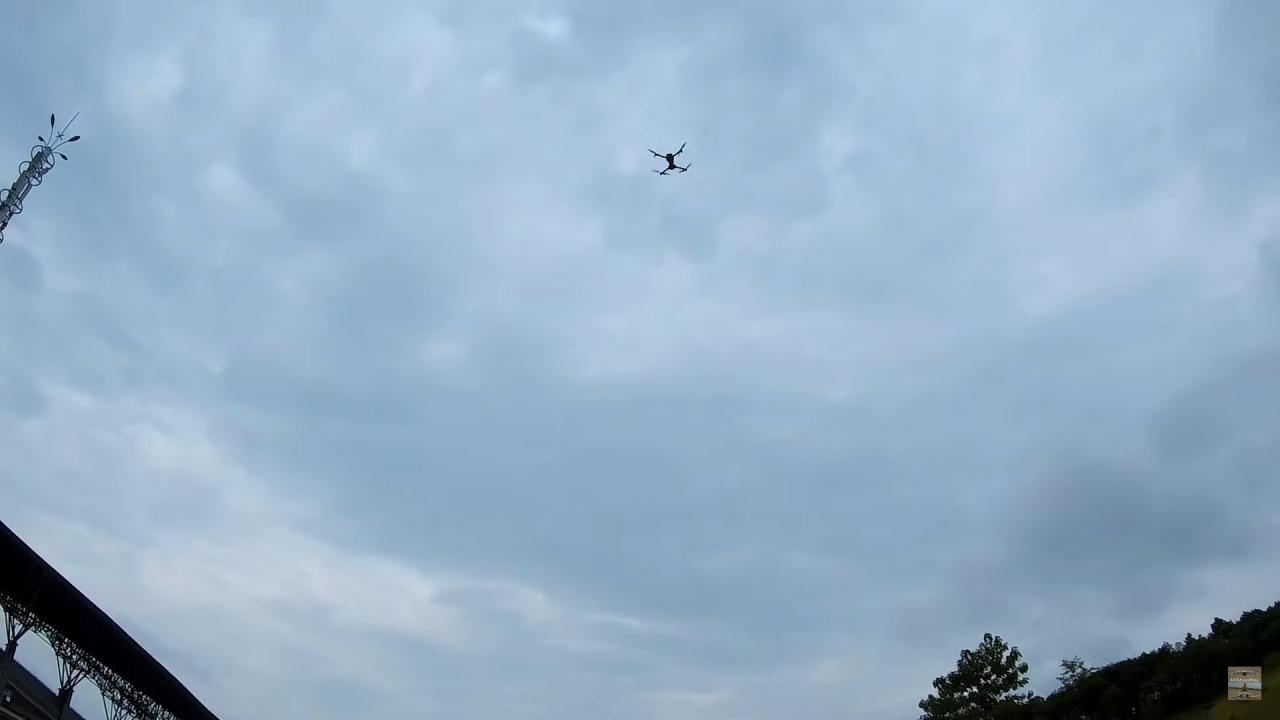Drone: (637, 132, 702, 188)
